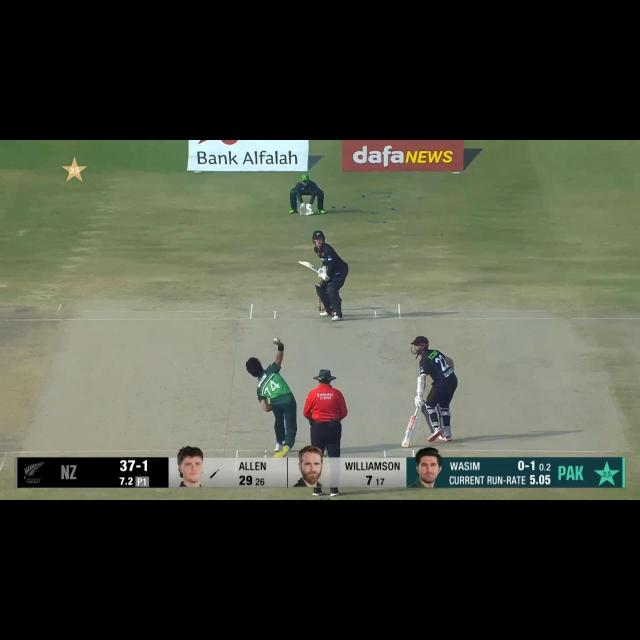bat: (402, 414, 418, 448), (296, 260, 318, 272)
toe: (401, 442, 410, 450), (297, 260, 305, 267)
